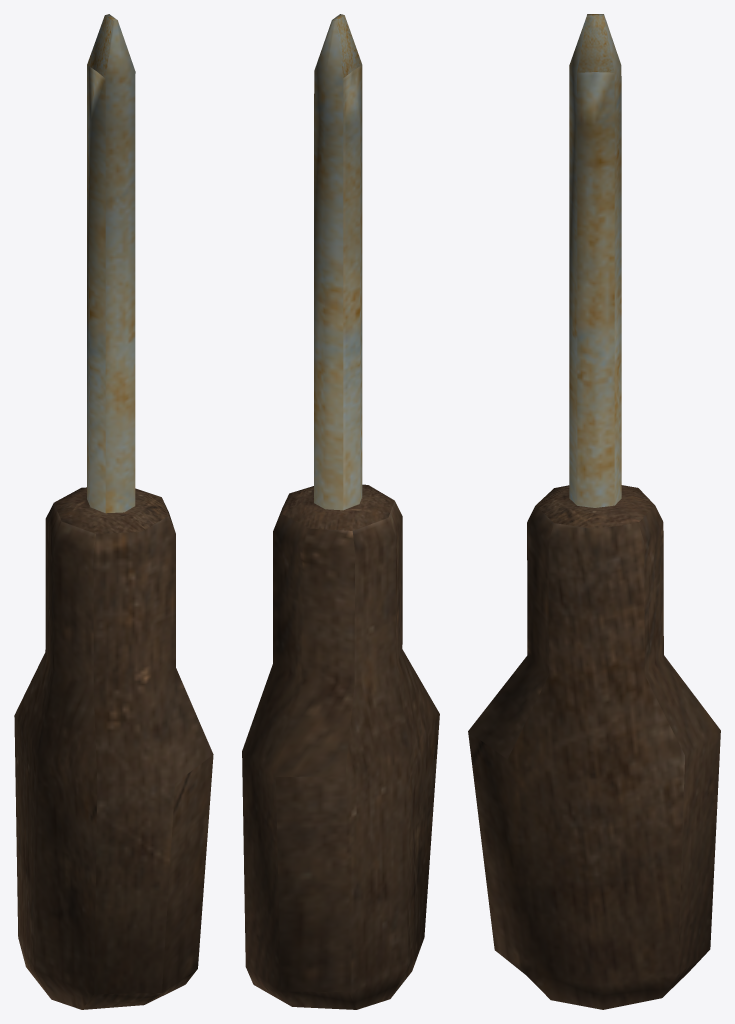
The model's file is ScrewDriver.fbx.
The picture shows the model from 3 angles, left to right: view 1: azimuth 30°, elevation 25°; view 2: azimuth 150°, elevation 25°; view 3: azimuth 270°, elevation 25°; orthographic projection.
Parts seen in each view (by area): view 1: ScrewDriver; view 2: ScrewDriver; view 3: ScrewDriver.
Part boxes in pixels (x1=…): ScrewDriver: x1=14, y1=14, x2=213, y2=1009; ScrewDriver: x1=242, y1=14, x2=439, y2=1009; ScrewDriver: x1=468, y1=14, x2=720, y2=1009.
Bounding box in the file's own units: 61.74 × 398 × 94.27.
